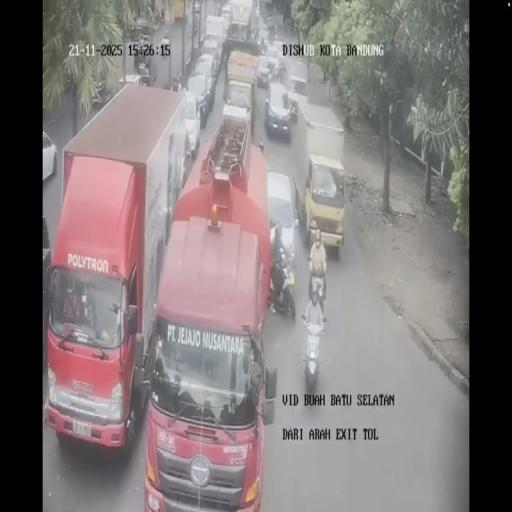3: (44, 82, 189, 456), (290, 101, 346, 256), (117, 74, 146, 94), (130, 16, 155, 35)
car: (185, 72, 210, 134), (286, 59, 308, 112), (200, 36, 222, 80), (257, 55, 272, 87), (220, 3, 232, 27), (258, 28, 269, 50), (138, 63, 150, 83), (272, 40, 284, 59), (140, 34, 150, 48)
truck: (268, 253, 296, 317), (301, 319, 323, 392), (309, 267, 327, 314)
